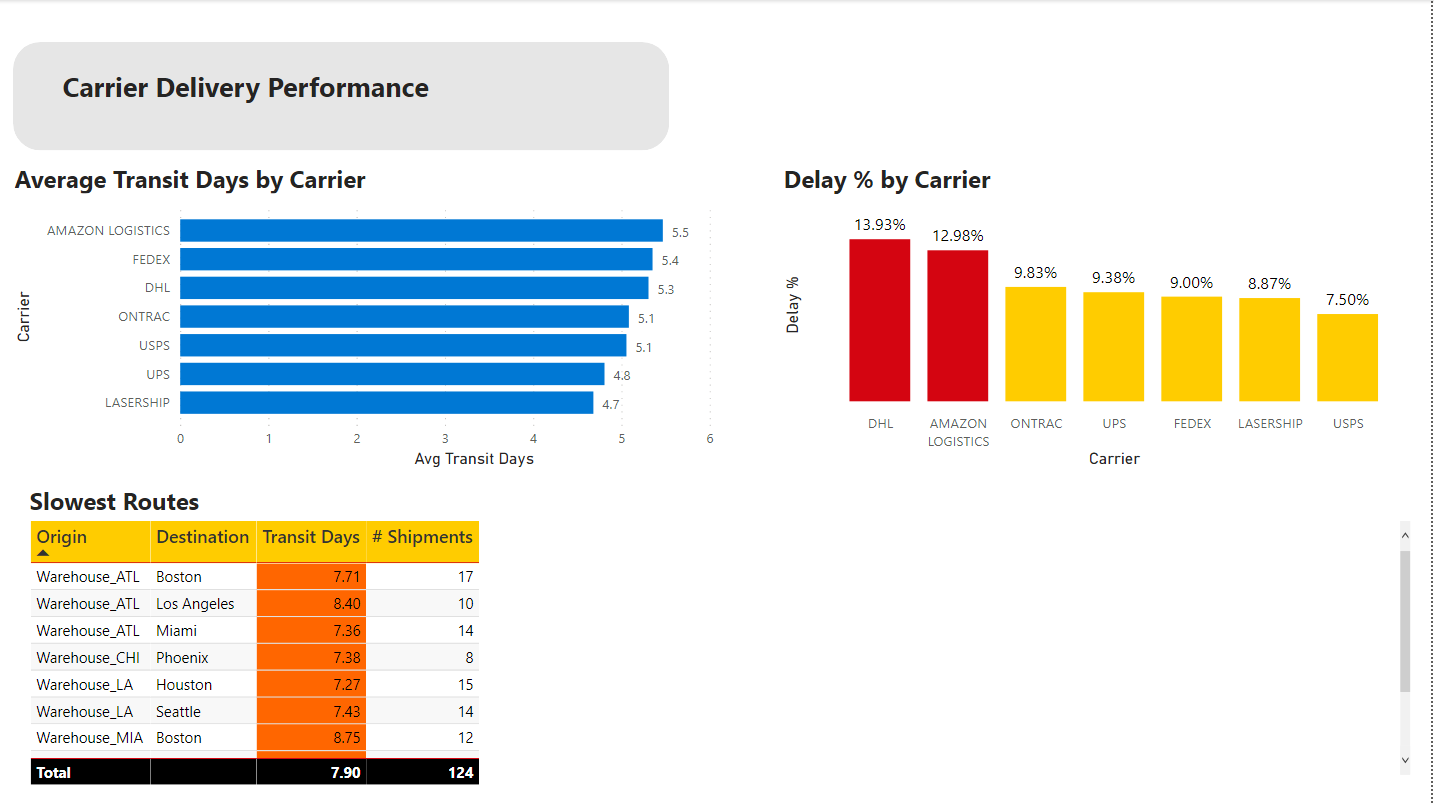

The dashboard page shown, as its layout file describes it:
{"tool":"powerbi","page":{"name":"Delivery Performance","canvas":[1280,720],"ordinal":1},"visuals":[{"type":"clusteredBarChart","title":"Average Transit Days by Carrier","fields":{"Category":["TimeKPIs.Carrier"],"Y":["TimeKPIs.Avg Transit Days"]},"box":[8,144.9,687.8,278.2],"z":0},{"type":"clusteredColumnChart","fields":{"Category":["TimeKPIs.Carrier"],"Y":["TimeKPIs.Delay %"]},"box":[695.9,144.9,570.6,278.2],"z":1000},{"type":"tableEx","title":"Slowest Routes","fields":{"Values":["TimeKPIs.Origin_Warehouse","TimeKPIs.Destination","TimeKPIs.Avg Transit Days (Route)","TimeKPIs.Shipments (Route)"]},"box":[21.5,432.9,1245,273.7],"z":2000},{"type":"shape","box":[11.6,37.6,586.7,97.5],"z":3000},{"type":"textbox","box":[37.6,55.5,393.5,59.9],"z":4000}]}

Visuals, with their boxes in screenshot pixels (x1, y1, x2, y2), scaled from the page's 1280x720 canvas onto the 1434x805 screenshot:
"Average Transit Days by Carrier" clusteredBarChart: {"x1": 9, "y1": 162, "x2": 780, "y2": 473}
clusteredColumnChart - TimeKPIs.Carrier x TimeKPIs.Delay %: {"x1": 780, "y1": 162, "x2": 1419, "y2": 473}
"Slowest Routes" tableEx: {"x1": 24, "y1": 484, "x2": 1419, "y2": 790}
shape: {"x1": 13, "y1": 42, "x2": 670, "y2": 151}
textbox: {"x1": 42, "y1": 62, "x2": 483, "y2": 129}
